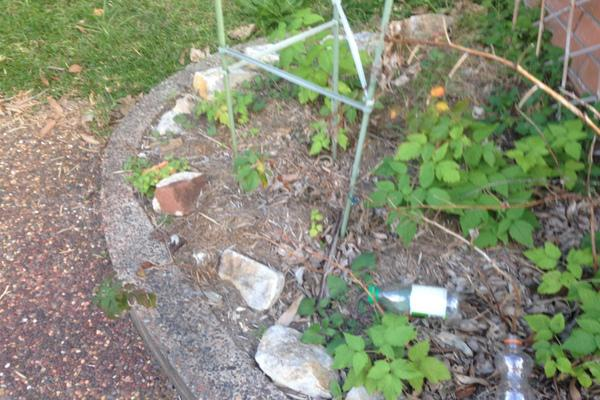Plastic Bottle: (369, 285, 460, 321), (496, 332, 536, 400)
